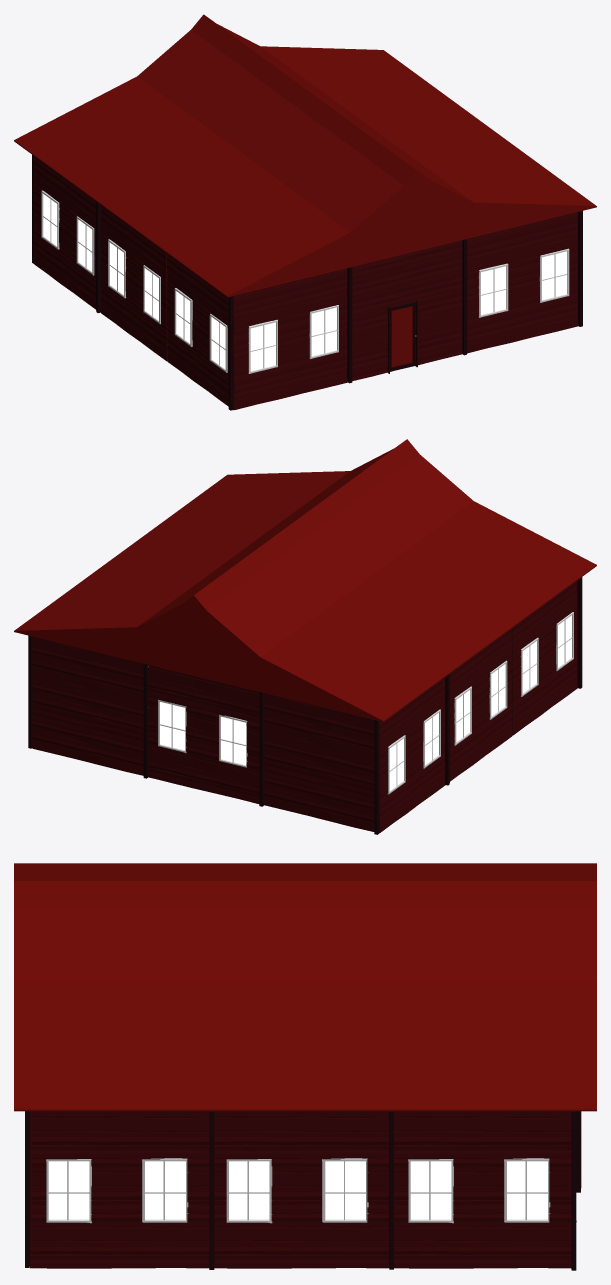
Rendered from vh2_matx_joined.fbx.
The picture shows the model from 3 angles, top to bottom: view 1: azimuth 30°, elevation 25°; view 2: azimuth 150°, elevation 25°; view 3: azimuth 270°, elevation 25°; orthographic projection. The views are drawn at different scales.
Parts seen in each view (by area): view 1: roof.002; view 2: roof.002; view 3: roof.002.
Part boxes in pixels (left/top/right/bottom): roof.002: left=14, top=14, right=596, bottom=410; roof.002: left=14, top=439, right=596, bottom=834; roof.002: left=14, top=863, right=596, bottom=1270.
Bounding box in the file's own units: 74.05 × 38.51 × 74.05.
